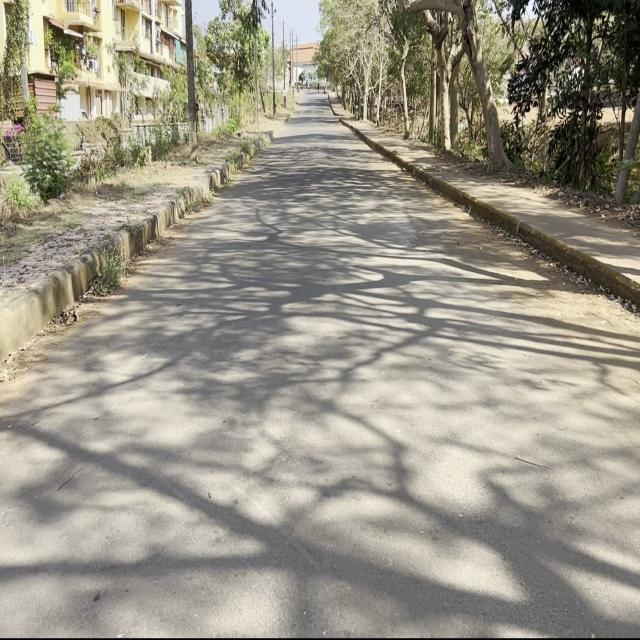Road: (3, 96, 638, 631)
